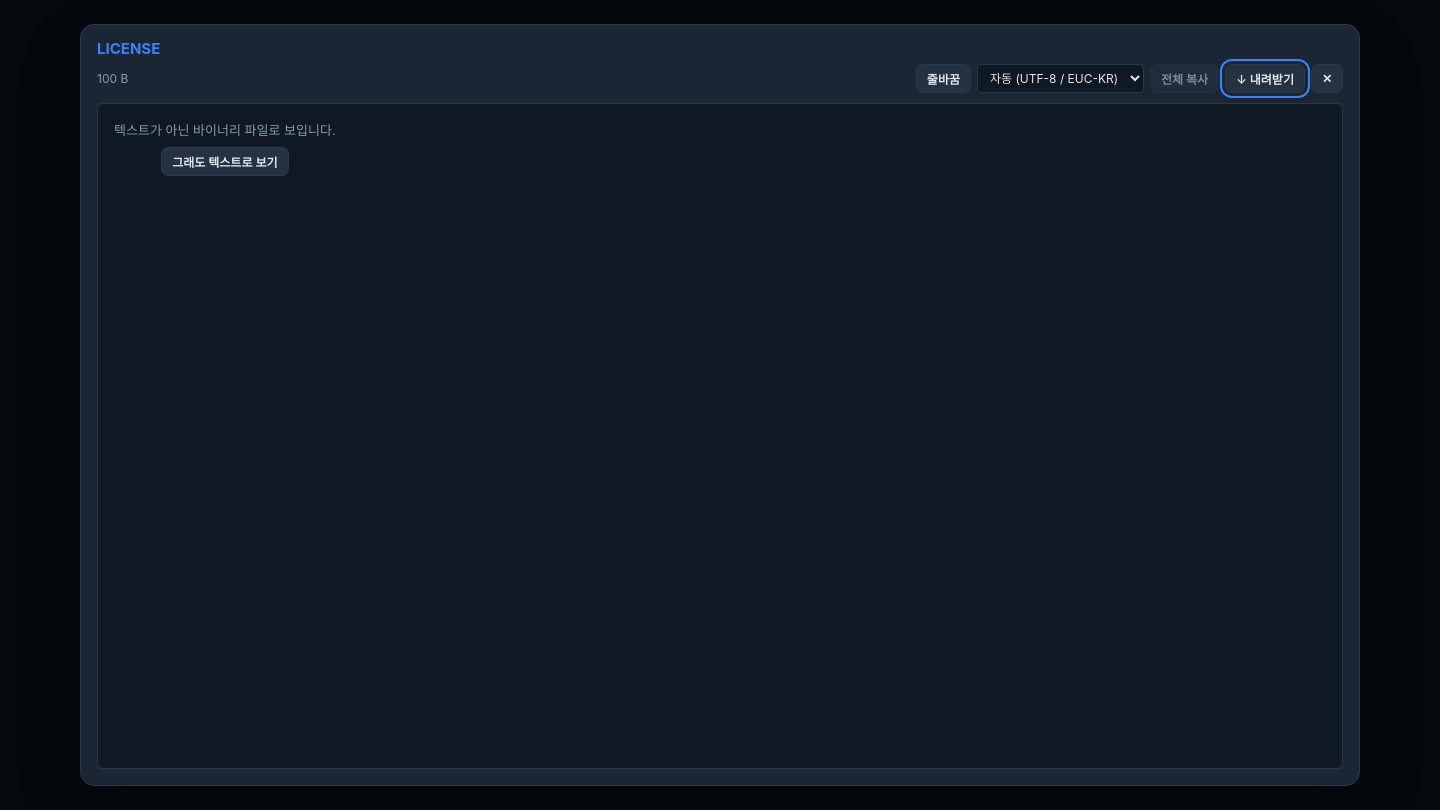
Test case: a binary file says so, and can still be shown
The width and height of the screenshot is (1440, 810).
Expected: the text "텍스트가 아닌 바이너리 파일로 보입니다. 그래도 텍스트로 보기" is shown, [114,122,336,176]
Click the button "그래도 텍스트로 보기" at {"x": 225, "y": 162}, box [161,147,288,176]
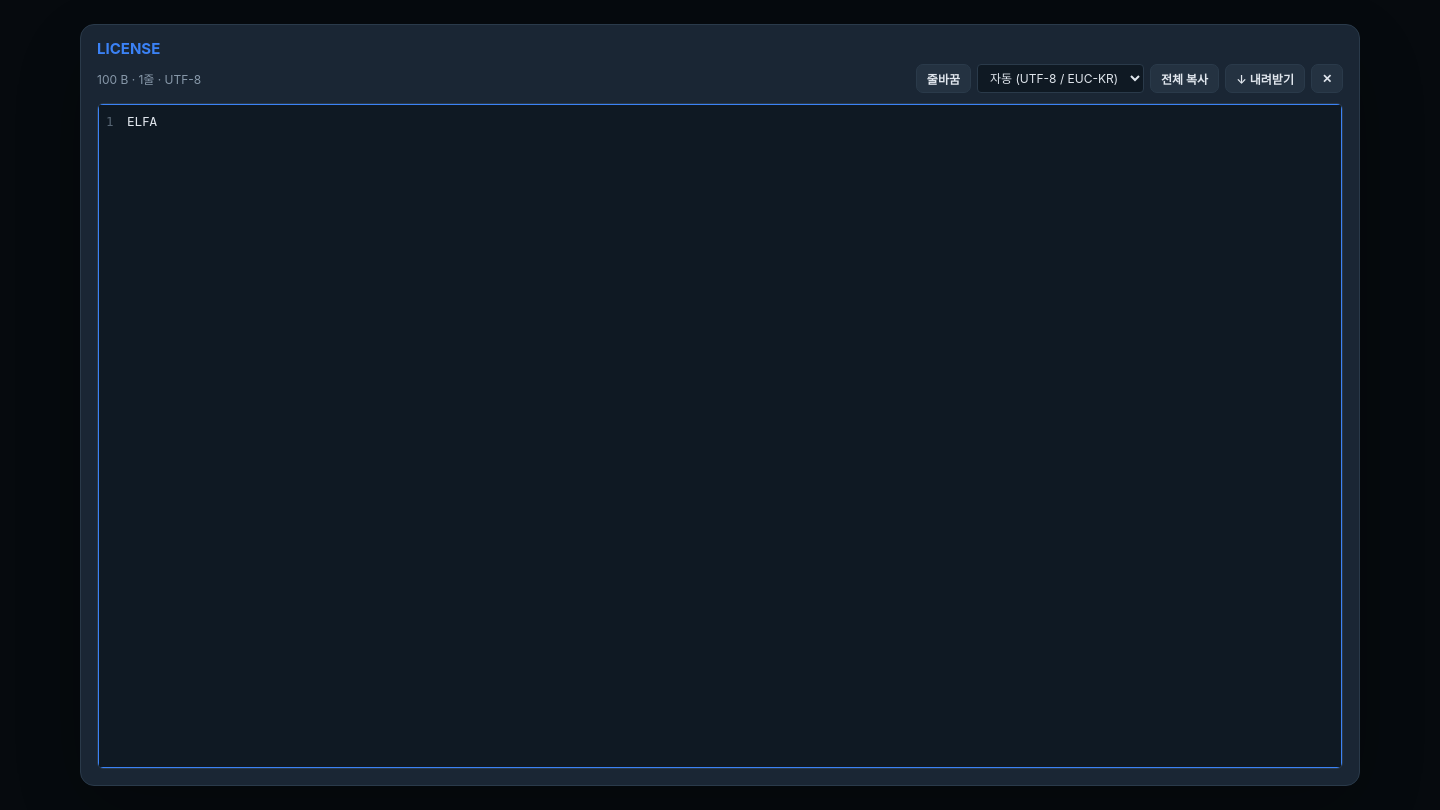
Expected: the number of elements with class "tp-row" is 1, [106,114,157,129]
